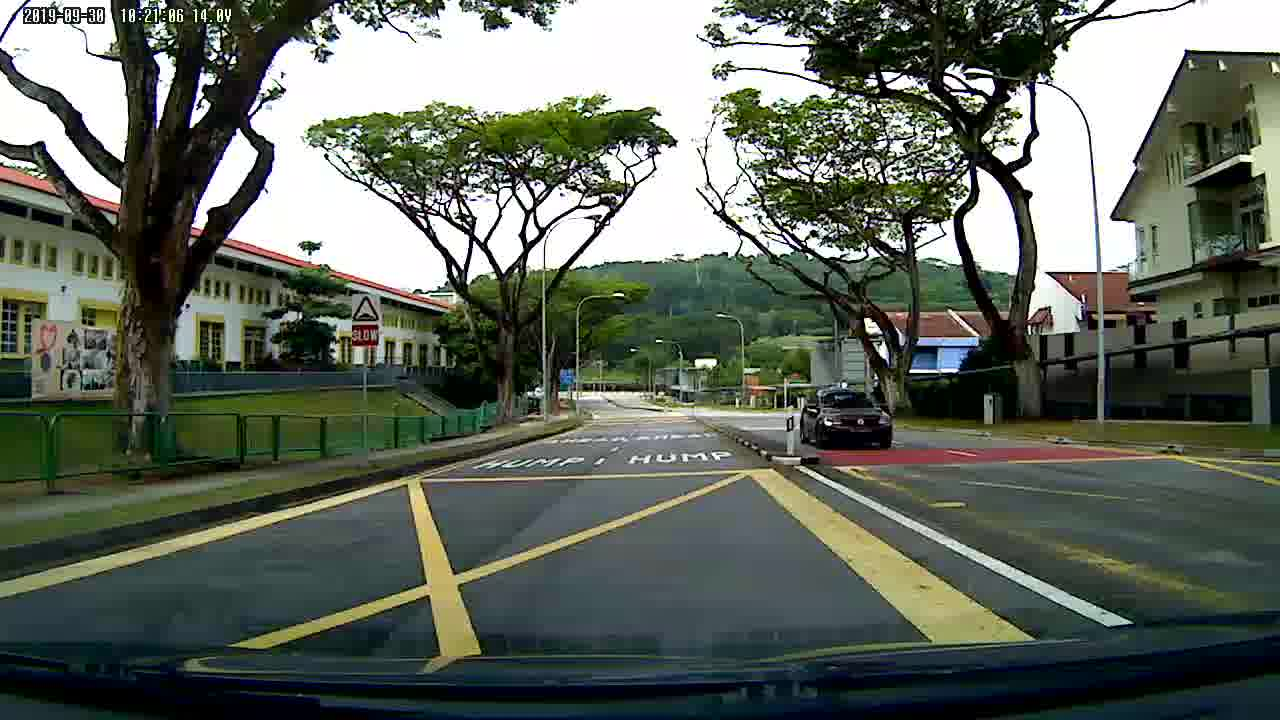car: (794, 385, 896, 448)
